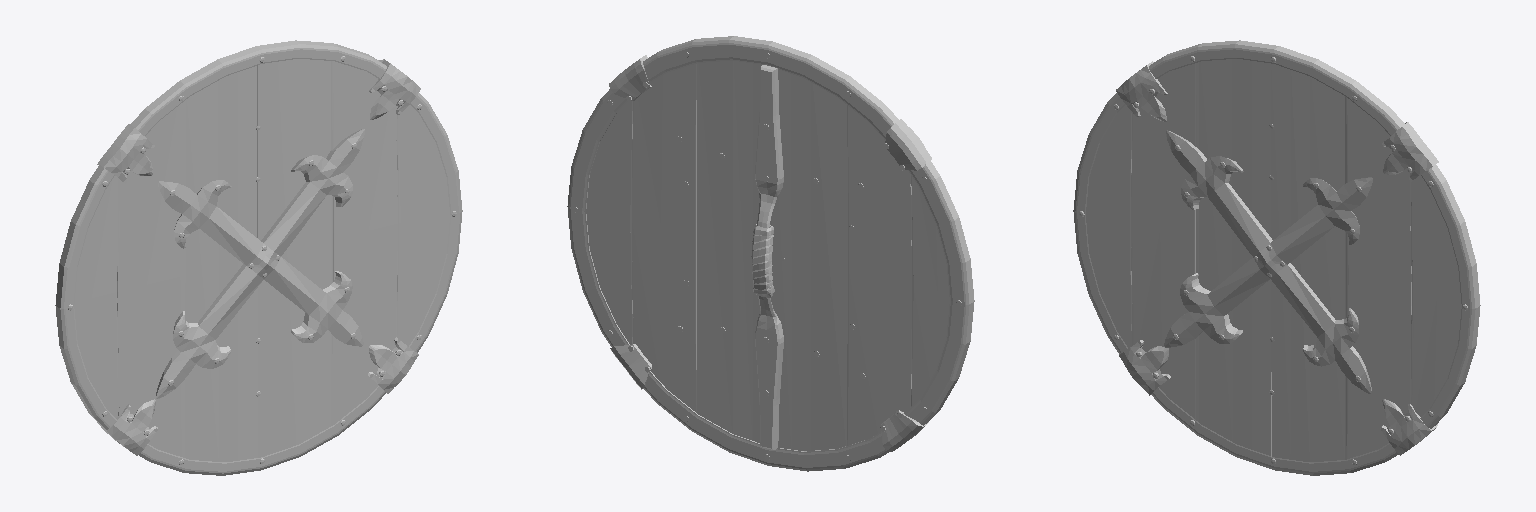
Rendered from shield skandinav medieval 02.obj.
3 views of the same model, side by side, from view 1: azimuth 30°, elevation 25°; view 2: azimuth 150°, elevation 25°; view 3: azimuth 330°, elevation 25° (orthographic).
Visible parts, largest first — view 1: Circle.002_Circle.001; view 2: Circle.002_Circle.001; view 3: Circle.002_Circle.001.
Boxes of the visible parts, box(x1,y1,x2,y2) form: Circle.002_Circle.001: box(55, 40, 462, 475); Circle.002_Circle.001: box(567, 36, 974, 471); Circle.002_Circle.001: box(1073, 40, 1480, 475).
Size of the model in its own units: 2.05 by 2.05 by 0.2152.